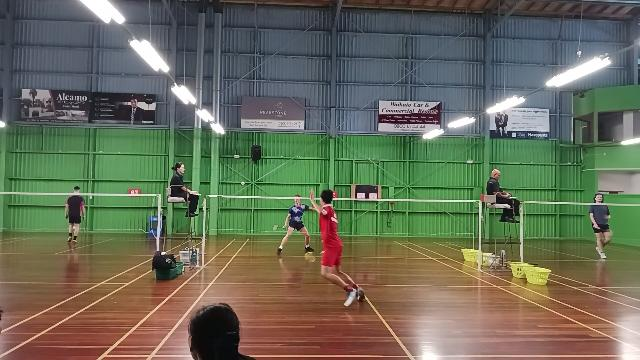Shuttlecock: (240, 178, 248, 187)
